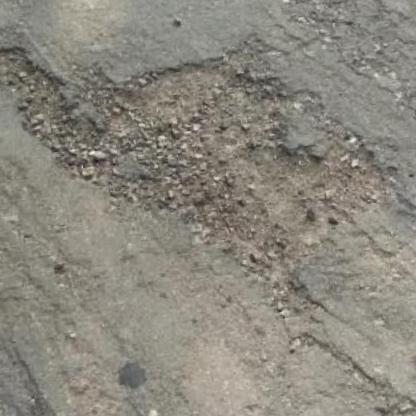pothole: (49, 8, 414, 329), (0, 33, 85, 193)
